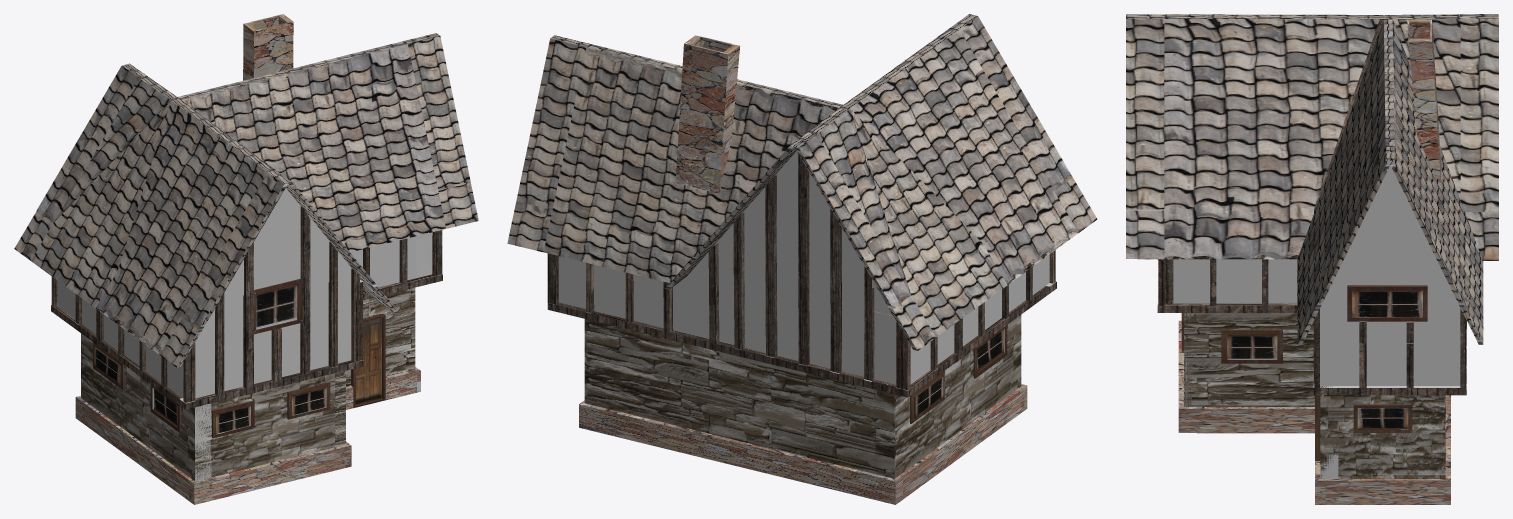
The model's file is Hittite_CivilHouse.fbx.
The picture shows the model from 3 angles, left to right: view 1: azimuth 30°, elevation 25°; view 2: azimuth 150°, elevation 25°; view 3: azimuth 270°, elevation 25°; orthographic projection. The views are drawn at different scales.
Parts seen in each view (by area): view 1: Cube; view 2: Cube; view 3: Cube.
Boxes of the visible parts, x1=… form: Cube: x1=14, y1=14, x2=478, y2=504; Cube: x1=507, y1=14, x2=1097, y2=504; Cube: x1=1126, y1=14, x2=1498, y2=504.
Size of the model in its own units: 1580 by 1448 by 1180.
